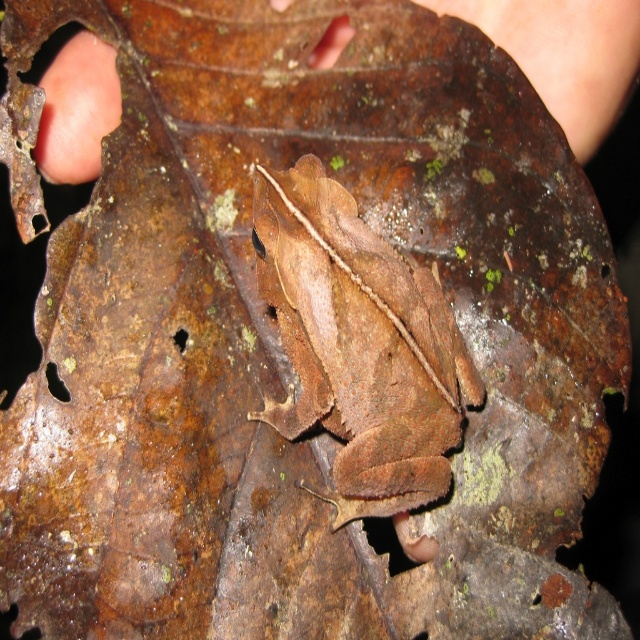Frog: (246, 151, 484, 536)
